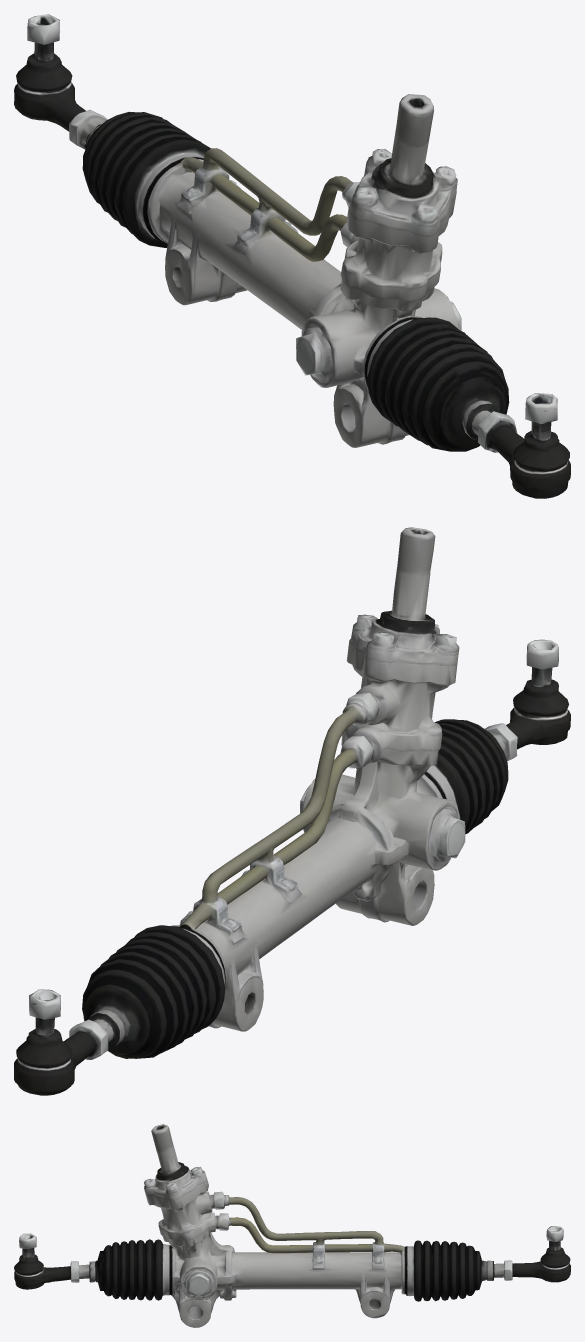
Rendered from steering-gear.glb.
3 renders of one model, top to bottom at view 1: azimuth 30°, elevation 25°; view 2: azimuth 150°, elevation 25°; view 3: azimuth 270°, elevation 25°, orthographic. The views are drawn at different scales.
Parts seen in each view (by area): view 1: tripo_node_f11ca1d5-84dc-4a62-a68b-26d6890036e7; view 2: tripo_node_f11ca1d5-84dc-4a62-a68b-26d6890036e7; view 3: tripo_node_f11ca1d5-84dc-4a62-a68b-26d6890036e7.
Boxes of the visible parts, x1,y1,x2,y2 form: tripo_node_f11ca1d5-84dc-4a62-a68b-26d6890036e7: (14, 14, 570, 498); tripo_node_f11ca1d5-84dc-4a62-a68b-26d6890036e7: (14, 527, 570, 1095); tripo_node_f11ca1d5-84dc-4a62-a68b-26d6890036e7: (14, 1124, 570, 1327).
Bounding box in the file's own units: 0.1625 × 0.3835 × 1.
Materials: 1 (1 with a texture image).
